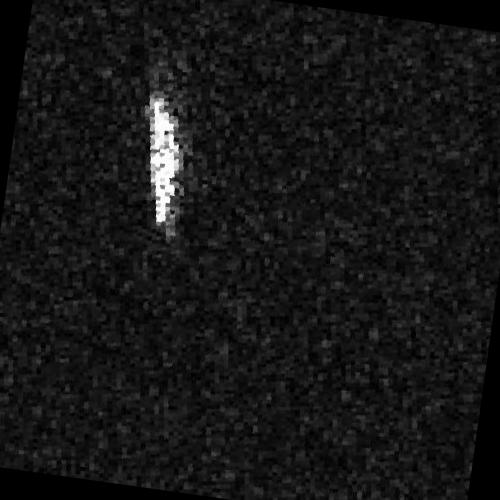ship: (149, 88, 181, 227)
